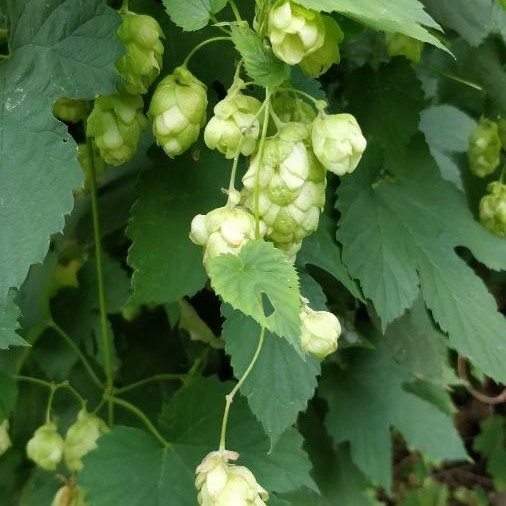obstacle: (76, 4, 392, 352), (341, 123, 500, 406)
